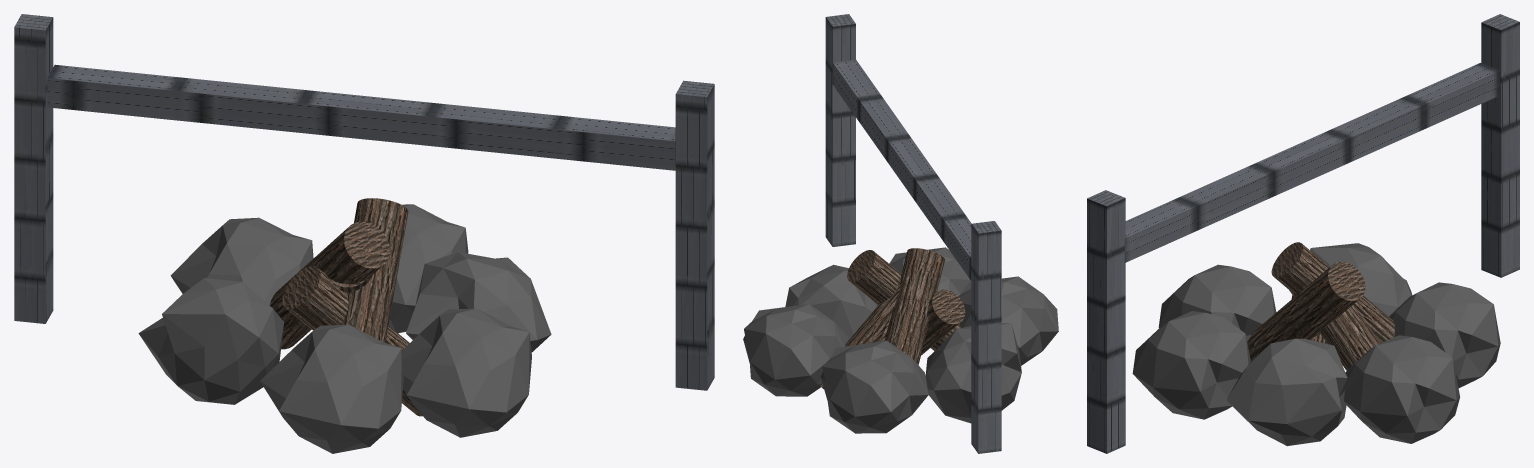
File: campfire.glb
3 renders of one model, left to right at view 1: azimuth 30°, elevation 25°; view 2: azimuth 150°, elevation 25°; view 3: azimuth 270°, elevation 25°, orthographic. The views are drawn at different scales.
Parts seen in each view (by area): view 1: Cube.001, Icosphere.003, Icosphere.004, Icosphere.005, Cube, Cube.002, Icosphere.002, Icosphere.001, Cylinder.001, Icosphere, Cylinder.002, Cylinder; view 2: Cube.001, Icosphere.001, Cube.002, Icosphere, Cube, Icosphere.005, Cylinder.002, Icosphere.003, Icosphere.002, Cylinder.001, Cylinder, Cylinder.003 (+1 smaller); view 3: Cube.001, Cube, Icosphere.002, Icosphere, Cube.002, Icosphere.004, Icosphere.001, Icosphere.003, Cylinder.001, Icosphere.005, Cylinder.002, Cylinder.003.
Part boxes in pixels (x1,y1,x2,y2): Cube.001: [47, 64, 675, 170]; Icosphere.003: [260, 324, 403, 453]; Icosphere.004: [402, 308, 531, 437]; Icosphere.005: [138, 278, 284, 404]; Cube: [675, 80, 714, 390]; Cube.002: [14, 14, 53, 323]; Icosphere.002: [406, 252, 551, 352]; Icosphere.001: [170, 217, 313, 304]; Cylinder.001: [341, 198, 408, 342]; Icosphere: [388, 204, 468, 333]; Cylinder.002: [269, 221, 389, 349]; Cylinder: [282, 266, 422, 416]; Cube.001: [832, 59, 971, 280]; Icosphere.001: [820, 340, 928, 433]; Cube.002: [971, 221, 1001, 453]; Icosphere: [743, 304, 848, 396]; Cube: [825, 14, 855, 246]; Icosphere.005: [925, 323, 1021, 423]; Cylinder.002: [884, 248, 944, 364]; Icosphere.003: [958, 276, 1058, 365]; Icosphere.002: [785, 264, 877, 340]; Cylinder.001: [847, 250, 960, 351]; Cylinder: [921, 289, 965, 355]; Cylinder.003: [820, 283, 935, 388]; Cube.001: [1124, 63, 1500, 262]; Cube: [1087, 190, 1125, 453]; Icosphere.002: [1226, 338, 1348, 446]; Icosphere: [1344, 335, 1459, 443]; Cube.002: [1481, 14, 1519, 277]; Icosphere.004: [1132, 311, 1250, 419]; Icosphere.001: [1389, 282, 1500, 387]; Icosphere.003: [1158, 264, 1276, 341]; Cylinder.001: [1247, 261, 1365, 360]; Icosphere.005: [1310, 243, 1412, 316]; Cylinder.002: [1271, 242, 1395, 343]; Cylinder.003: [1289, 290, 1380, 370].
Size of the model in its own units: 0.5943 by 0.4444 by 0.5652.
8 materials, 2 textured.
